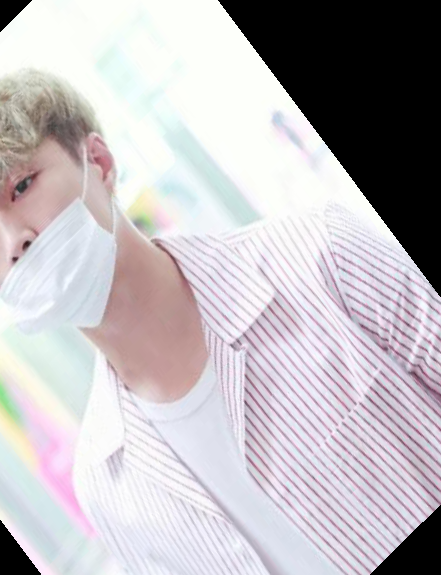mask_weared_incorrect: (1, 64, 125, 350)
